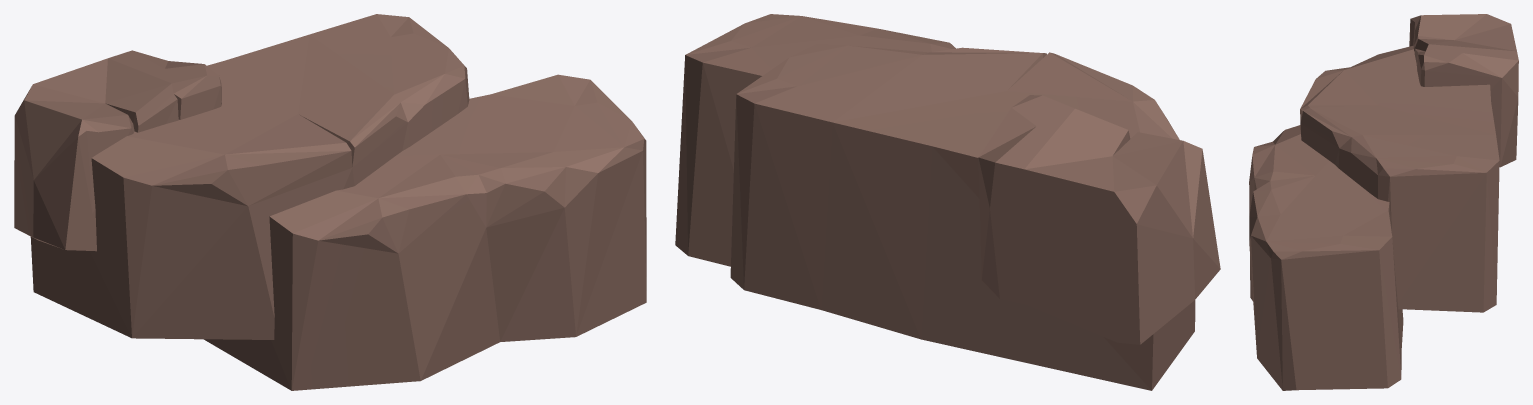
The model's file is rock_005.fbx.
3 views of the same model, side by side, from view 1: azimuth 30°, elevation 25°; view 2: azimuth 150°, elevation 25°; view 3: azimuth 270°, elevation 25° (orthographic). The views are drawn at different scales.
Parts seen in each view (by area): view 1: rock.005; view 2: rock.005; view 3: rock.005.
Part boxes in pixels (x1,y1,x2,y2): rock.005: (14,14,646,390); rock.005: (675,14,1220,390); rock.005: (1249,14,1518,390).
Size of the model in its own units: 3373 by 1586 by 1911.
Materials: 1 (1 with a texture image).
